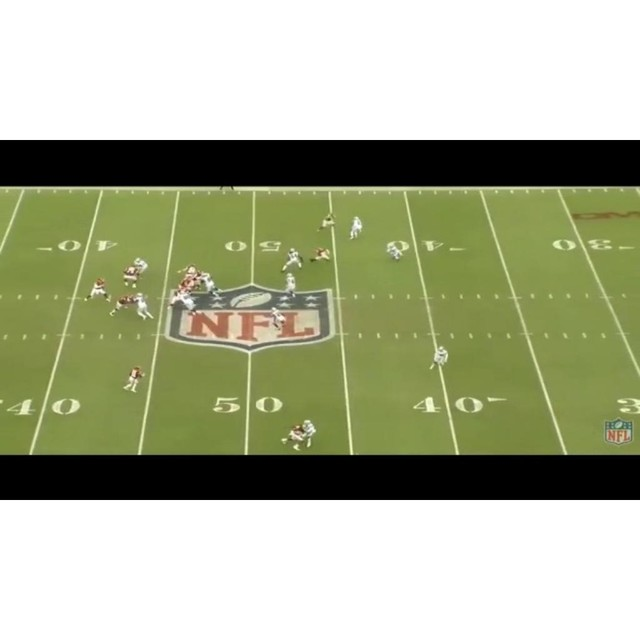american-football-player: (121, 259, 146, 288), (199, 271, 222, 301), (85, 277, 110, 303), (281, 423, 305, 450), (122, 365, 146, 392), (132, 293, 154, 320), (109, 294, 134, 317), (281, 248, 303, 273), (268, 307, 286, 336), (429, 346, 449, 371), (315, 212, 337, 234), (302, 419, 317, 449), (347, 216, 364, 241), (283, 273, 298, 299), (311, 247, 331, 263)
